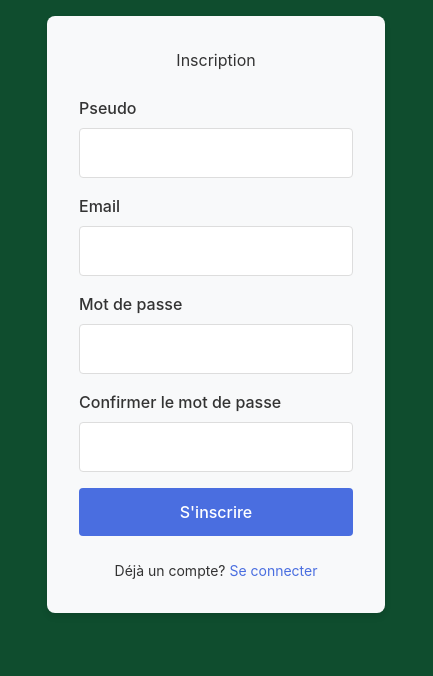
Register Component › affiche une erreur si le mot de passe ne contient pas de chiffre
This screenshot has width=433, height=676.
In the field labelled "Pseudo": (216, 153) [79,128,353,178], type "testuser"
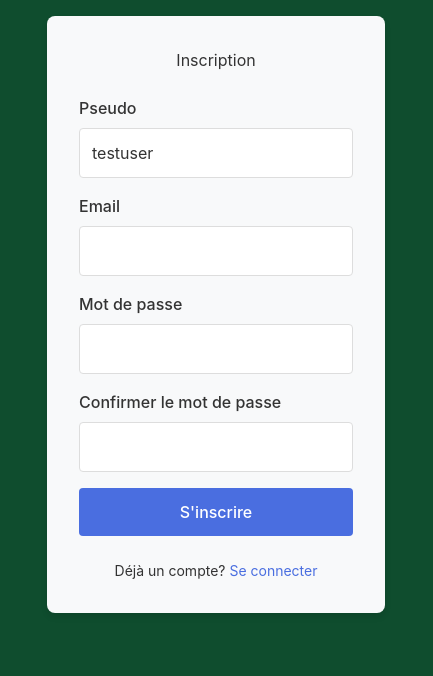
In the field labelled "Email": (216, 251) [79,226,353,276], type "test@example.com"
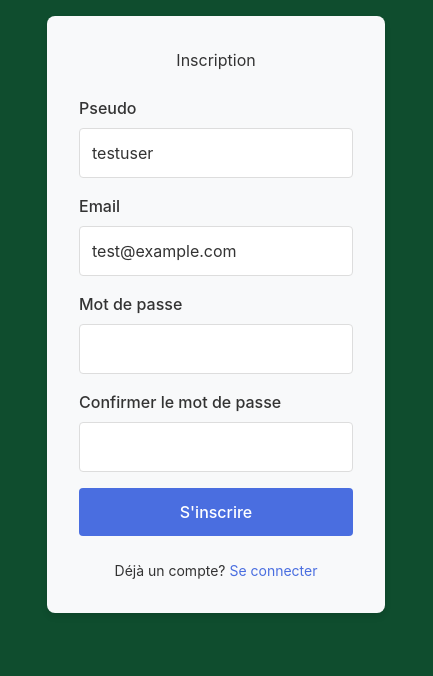
In the password field labelled "Mot de passe": (216, 349) [79,324,353,374], type "Password"
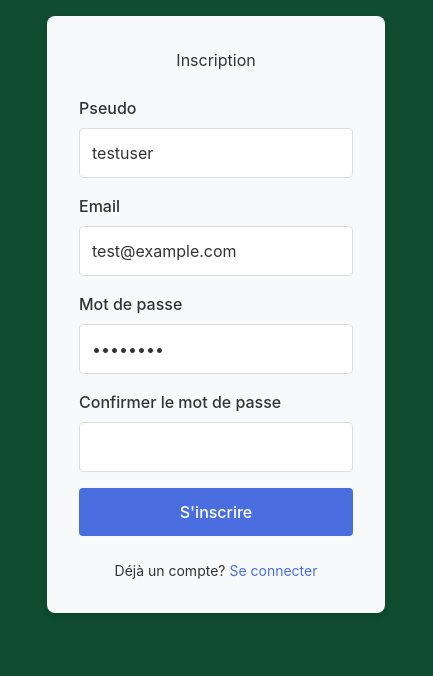
In the password field labelled "Confirmer le mot de passe": (216, 447) [79,422,353,472], type "Password"
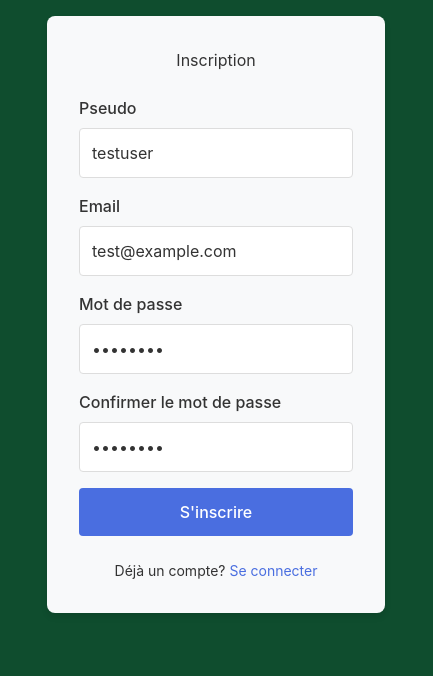
Click the button "S'inscrire": (216, 512) [79,488,353,536]
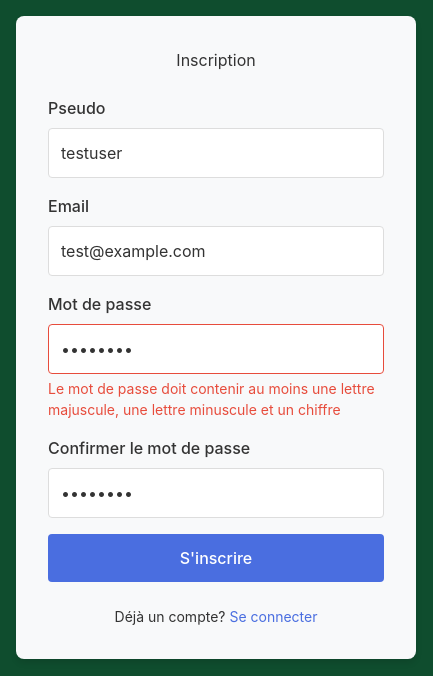
Now the text "au moins une lettre majuscule, une lettre minuscule et un chiffre" is shown, box [48,380,375,418]
